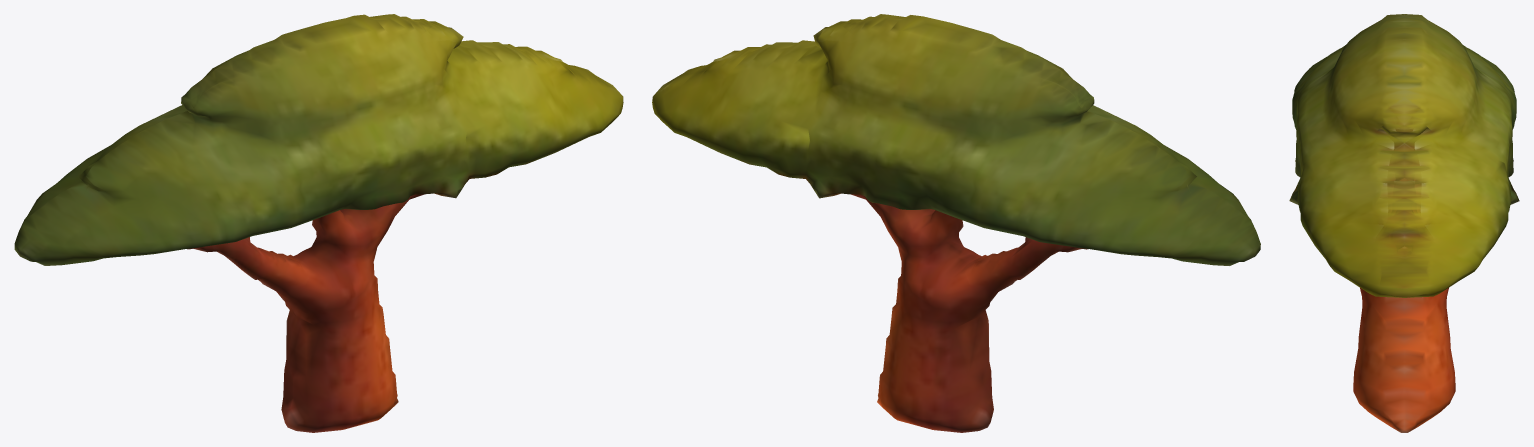
The model's file is 03_baobab_trees_r02_c04.glb.
3 views of the same model, side by side, from view 1: azimuth 30°, elevation 25°; view 2: azimuth 150°, elevation 25°; view 3: azimuth 270°, elevation 25° (orthographic). The views are drawn at different scales.
Visible parts, largest first — view 1: 03_baobab_trees_r02_c04; view 2: 03_baobab_trees_r02_c04; view 3: 03_baobab_trees_r02_c04.
Part boxes in pixels (x1,y1,x2,y2): 03_baobab_trees_r02_c04: [14, 14, 623, 432]; 03_baobab_trees_r02_c04: [652, 14, 1260, 432]; 03_baobab_trees_r02_c04: [1289, 14, 1519, 432].
Bounding box in the file's own units: 2.01 × 1.25 × 0.7244.
1 material, 1 textured.
